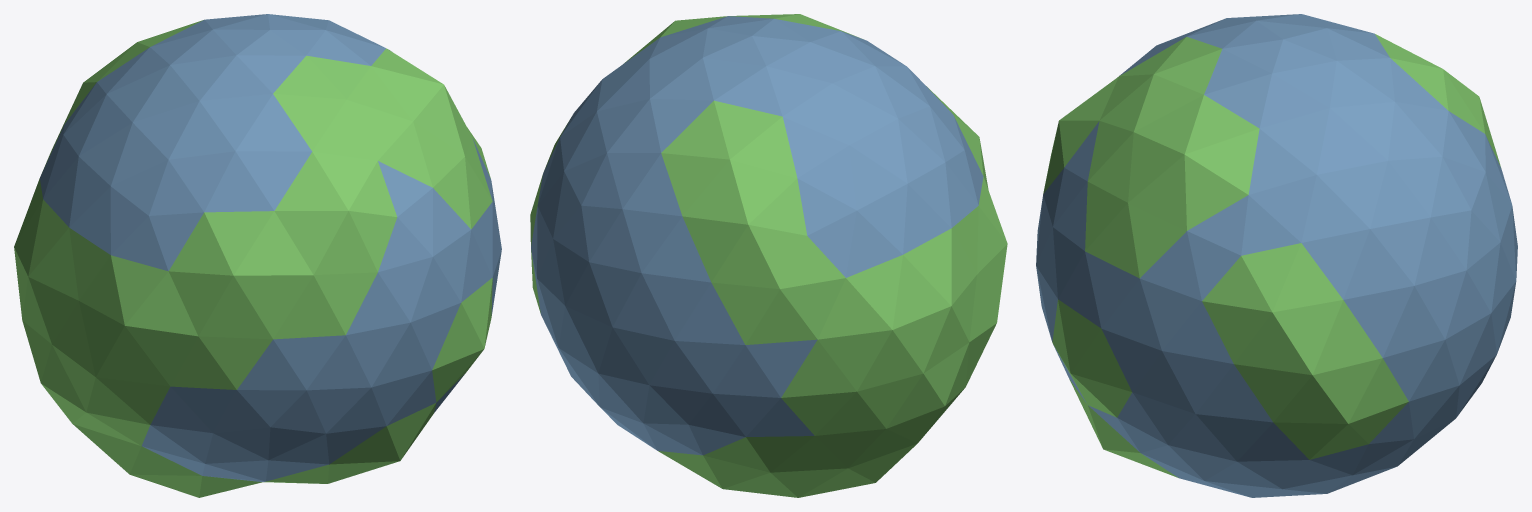
Rendered from Earth.dae.
The picture shows the model from 3 angles, left to right: view 1: azimuth 30°, elevation 25°; view 2: azimuth 150°, elevation 25°; view 3: azimuth 270°, elevation 25°; orthographic projection. The views are drawn at different scales.
Parts seen in each view (by area): view 1: Icosphere; view 2: Icosphere; view 3: Icosphere.
Boxes of the visible parts, bbox=[...] form: Icosphere: bbox=[14, 14, 501, 497]; Icosphere: bbox=[530, 14, 1007, 497]; Icosphere: bbox=[1036, 14, 1517, 497].
Bounding box in the file's own units: 2.1 × 1.97 × 2.08.
